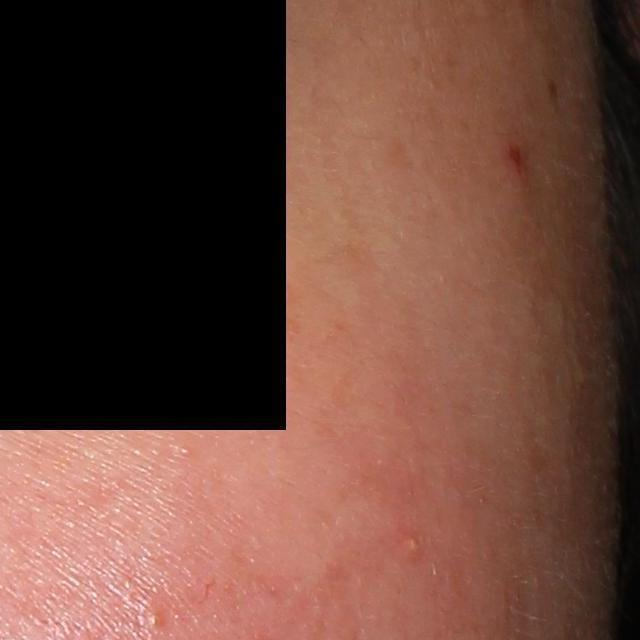comedo: (147, 611, 162, 629)
papule: (502, 139, 531, 178)
pustule: (401, 533, 427, 560)
